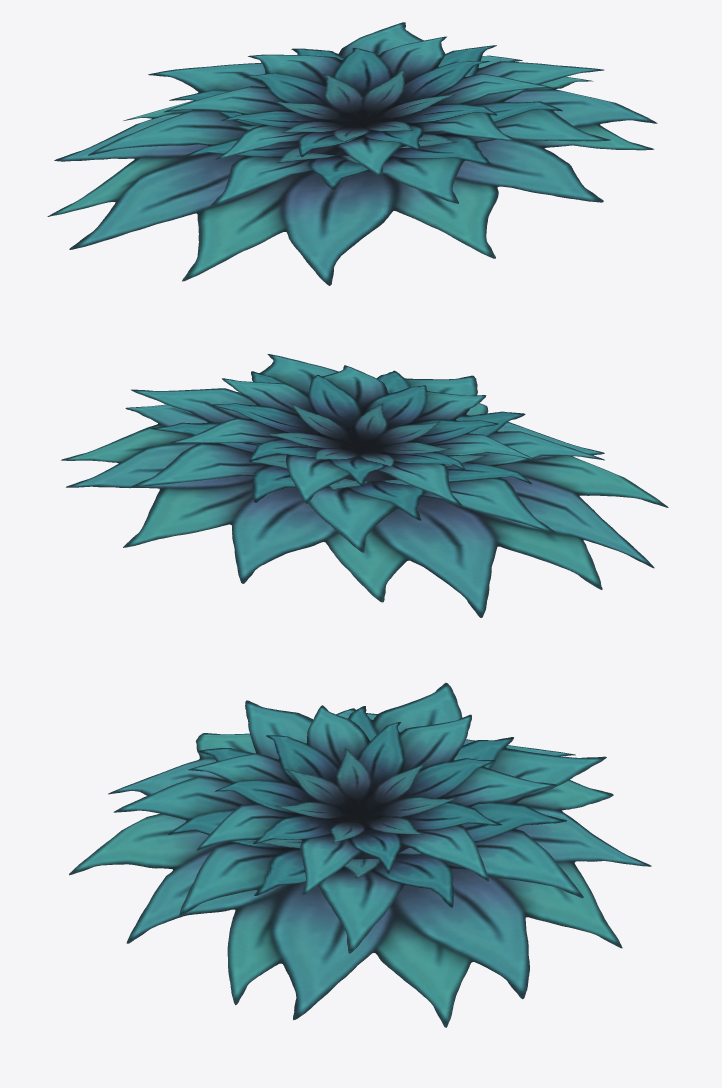
Rendered from bush9.fbx.
The picture shows the model from 3 angles, top to bottom: view 1: azimuth 30°, elevation 25°; view 2: azimuth 150°, elevation 25°; view 3: azimuth 270°, elevation 25°; orthographic projection. The views are drawn at different scales.
Visible parts, largest first — view 1: polySurface647; view 2: polySurface647; view 3: polySurface647.
Part boxes in pixels (x1,y1,x2,y2): polySurface647: [47, 22, 657, 285]; polySurface647: [61, 354, 668, 617]; polySurface647: [69, 682, 651, 1027].
Bounding box in the file's own units: 1.51 × 0.1802 × 1.18.
